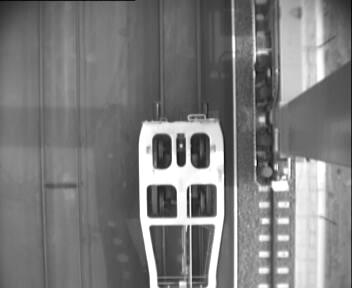twist_lock_2: (149, 131, 214, 172)
